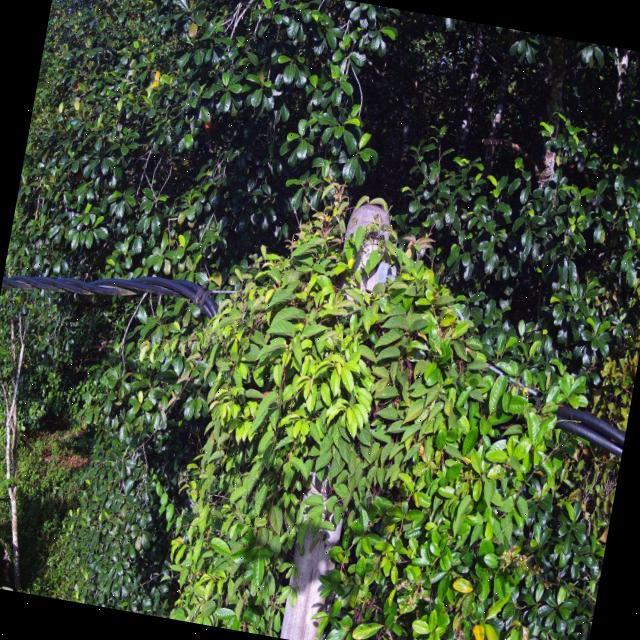critical vegetation: (121, 173, 621, 640)
